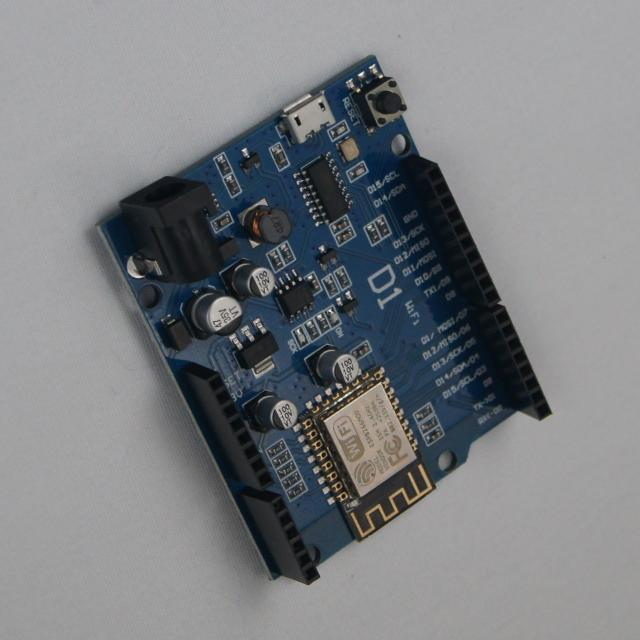Arduino Uno WiFi Shield: (100, 56, 550, 584)
